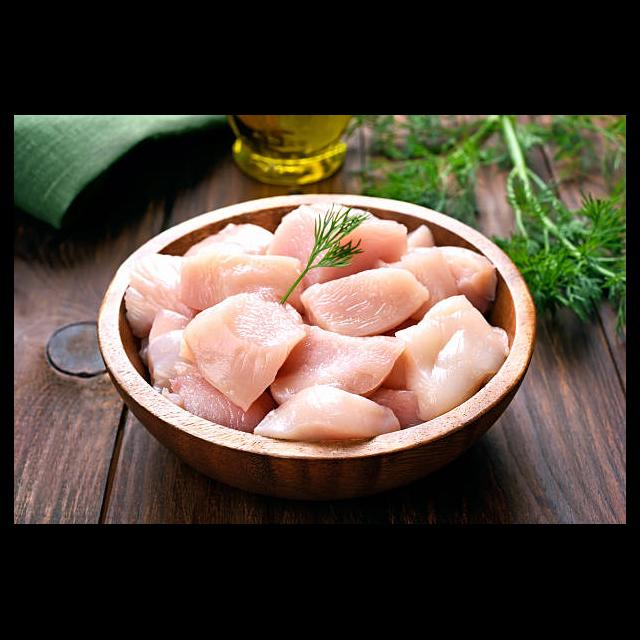chicken: (120, 201, 511, 447)
